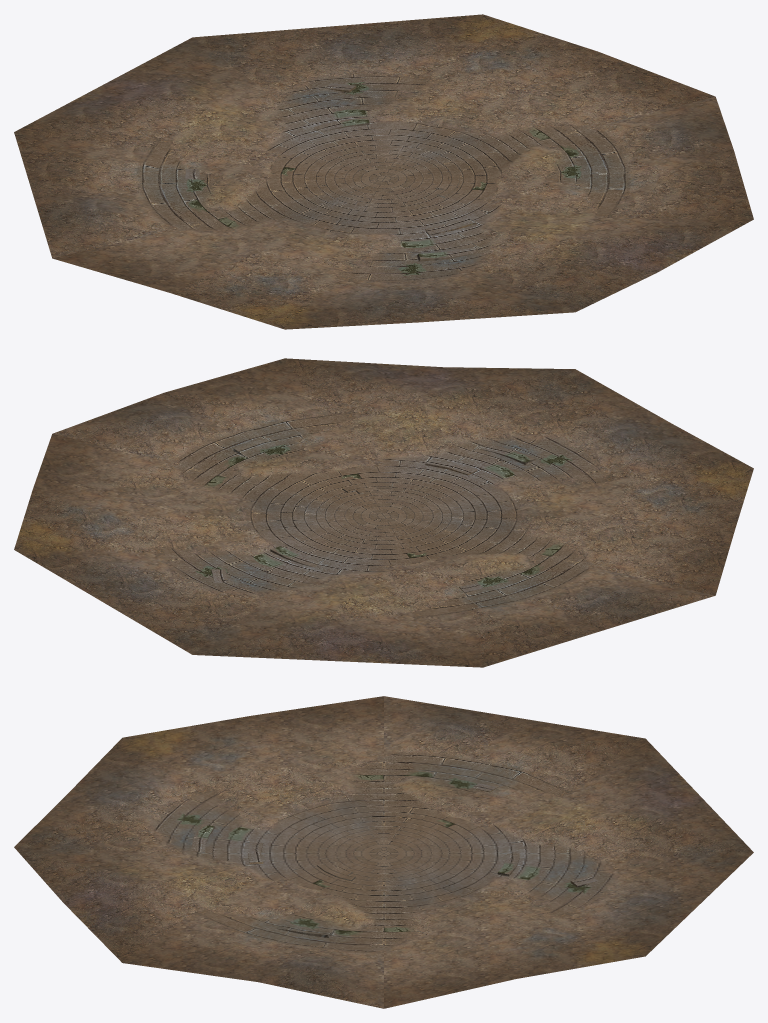
The model's file is Ground01_JingJiChang_Parts_001.FBX.
3 views of the same model, one above another, from view 1: azimuth 30°, elevation 25°; view 2: azimuth 150°, elevation 25°; view 3: azimuth 270°, elevation 25° (orthographic). The views are drawn at different scales.
Visible parts, largest first — view 1: Ground01_JingJiChang_Parts_001; view 2: Ground01_JingJiChang_Parts_001; view 3: Ground01_JingJiChang_Parts_001.
Boxes of the visible parts, box(x1,y1,x2,y2) form: Ground01_JingJiChang_Parts_001: box(14, 14, 753, 329); Ground01_JingJiChang_Parts_001: box(14, 358, 753, 667); Ground01_JingJiChang_Parts_001: box(14, 696, 753, 1008).
Bounding box in the file's own units: 5364 × 96.83 × 5364.
Materials: 1 (1 with a texture image).
